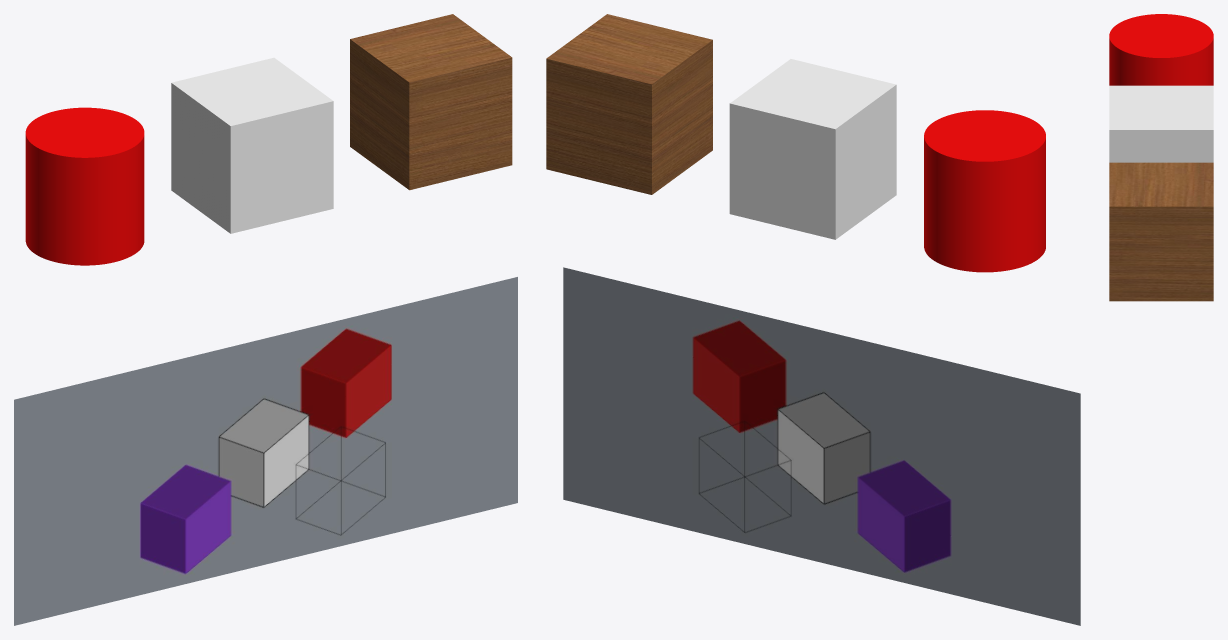
File: asset.glb
3 renders of one model, left to right at view 1: azimuth 30°, elevation 25°; view 2: azimuth 150°, elevation 25°; view 3: azimuth 270°, elevation 25°, orthographic. The views are drawn at different scales.
Parts seen in each view (by area): view 1: dimension2, object 3, Layer 02, Layer 01; view 2: dimension2, object 3, Layer 02, Layer 01; view 3: Layer 02, object 3, Layer 01.
Boxes of the visible parts, bbox=[...] form: dimension2: bbox=[14, 277, 517, 625]; object 3: bbox=[171, 57, 333, 233]; Layer 02: bbox=[350, 14, 512, 190]; Layer 01: bbox=[25, 107, 144, 265]; dimension2: bbox=[563, 267, 1080, 625]; object 3: bbox=[729, 59, 896, 239]; Layer 02: bbox=[546, 14, 712, 194]; Layer 01: bbox=[924, 110, 1045, 272]; Layer 02: bbox=[1109, 162, 1213, 301]; object 3: bbox=[1109, 85, 1213, 162]; Layer 01: bbox=[1109, 14, 1213, 85].
Bounding box in the file's own units: 1.47 × 1.3 × 0.3.
Materials: 4 (2 with a texture image).
